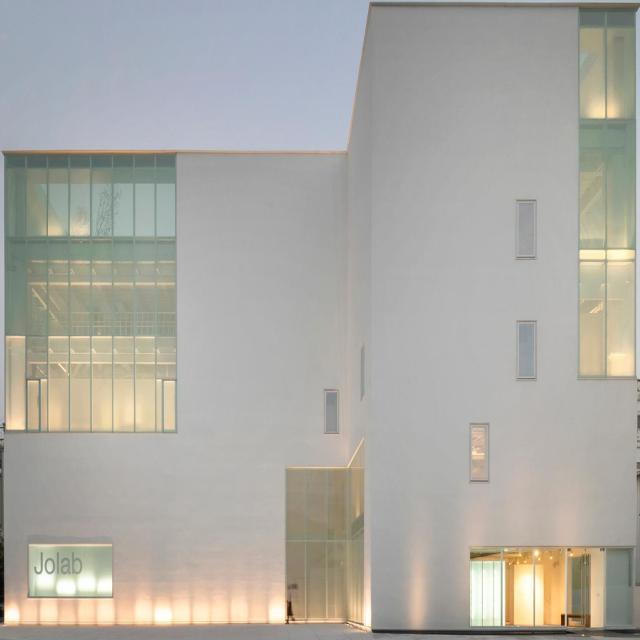window: (3, 149, 176, 430), (578, 9, 637, 378), (286, 435, 366, 627), (468, 547, 636, 635), (29, 545, 112, 596), (516, 202, 536, 260), (520, 319, 540, 377), (471, 425, 489, 482), (324, 392, 339, 434)
